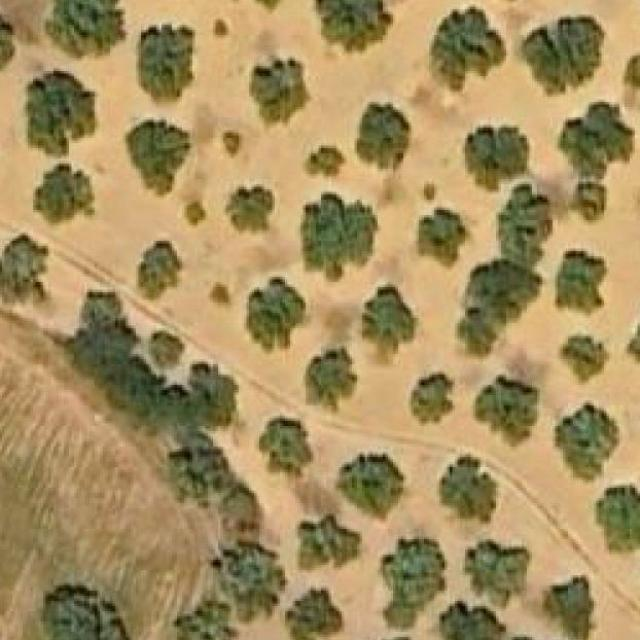Tree: (458, 256, 540, 359), (376, 537, 448, 633), (304, 192, 378, 280), (522, 18, 604, 92), (24, 71, 94, 156), (432, 9, 504, 90), (136, 22, 197, 112), (561, 105, 633, 180), (556, 400, 620, 483), (40, 582, 131, 640), (218, 539, 283, 620), (129, 120, 190, 196), (336, 454, 404, 522), (46, 0, 124, 58), (246, 277, 306, 352), (249, 56, 311, 126), (463, 542, 530, 604), (465, 126, 527, 192), (553, 248, 609, 318), (478, 380, 537, 444), (316, 0, 391, 50), (362, 282, 419, 347), (304, 348, 360, 414), (355, 102, 410, 169), (496, 184, 547, 256), (33, 164, 95, 223), (442, 457, 497, 522), (299, 513, 360, 570), (170, 441, 231, 496), (146, 380, 199, 442), (259, 418, 314, 477), (187, 364, 241, 423), (0, 235, 49, 300), (131, 241, 182, 302), (417, 208, 468, 269), (596, 484, 640, 552), (545, 578, 592, 640), (175, 596, 237, 640), (287, 590, 336, 640), (408, 375, 455, 426), (107, 362, 154, 413), (225, 187, 275, 234), (439, 603, 501, 640), (560, 336, 609, 381), (80, 287, 120, 329), (304, 146, 348, 182), (624, 297, 640, 377), (151, 332, 185, 368), (573, 181, 604, 220), (0, 14, 14, 70), (624, 58, 640, 89), (185, 203, 206, 223), (226, 133, 242, 153)
